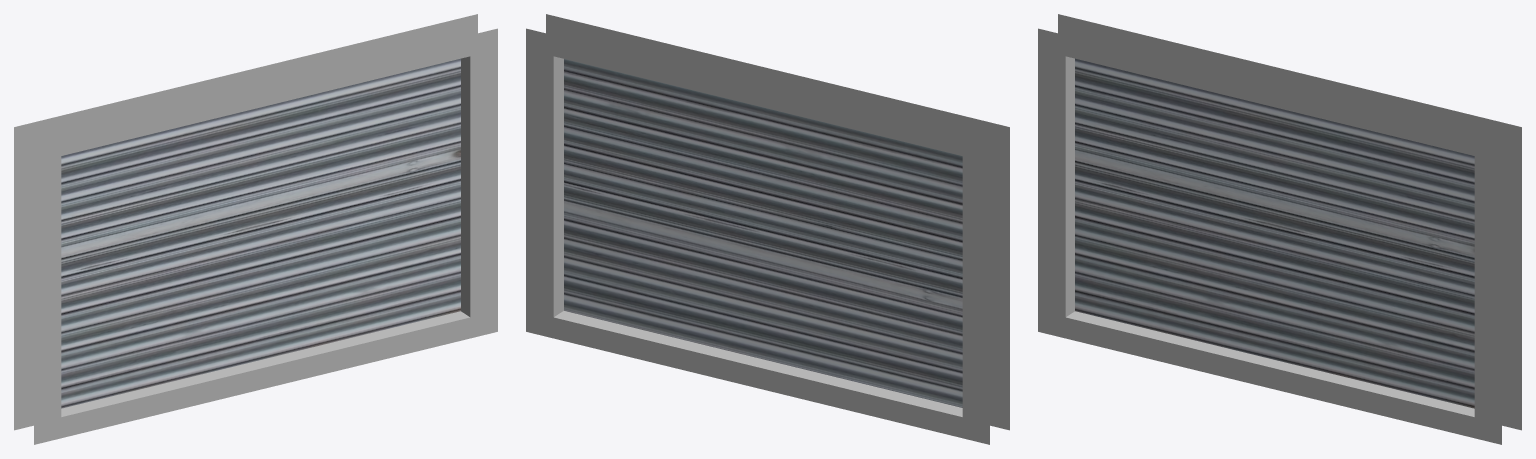
Rendered from Window_Wide_v2.fbx.
3 renders of one model, left to right at view 1: azimuth 30°, elevation 25°; view 2: azimuth 150°, elevation 25°; view 3: azimuth 330°, elevation 25°, orthographic.
Visible parts, largest first — view 1: Glass, Window_Wide; view 2: Glass, Window_Wide; view 3: Glass, Window_Wide.
Boxes of the visible parts, x1=… form: Glass: x1=61, y1=58, x2=460, y2=408; Window_Wide: x1=14, y1=14, x2=497, y2=444; Glass: x1=564, y1=59, x2=962, y2=407; Window_Wide: x1=526, y1=14, x2=1009, y2=444; Glass: x1=1075, y1=58, x2=1474, y2=408; Window_Wide: x1=1038, y1=14, x2=1521, y2=444.
Size of the model in its own units: 288 by 180 by 21.32.
